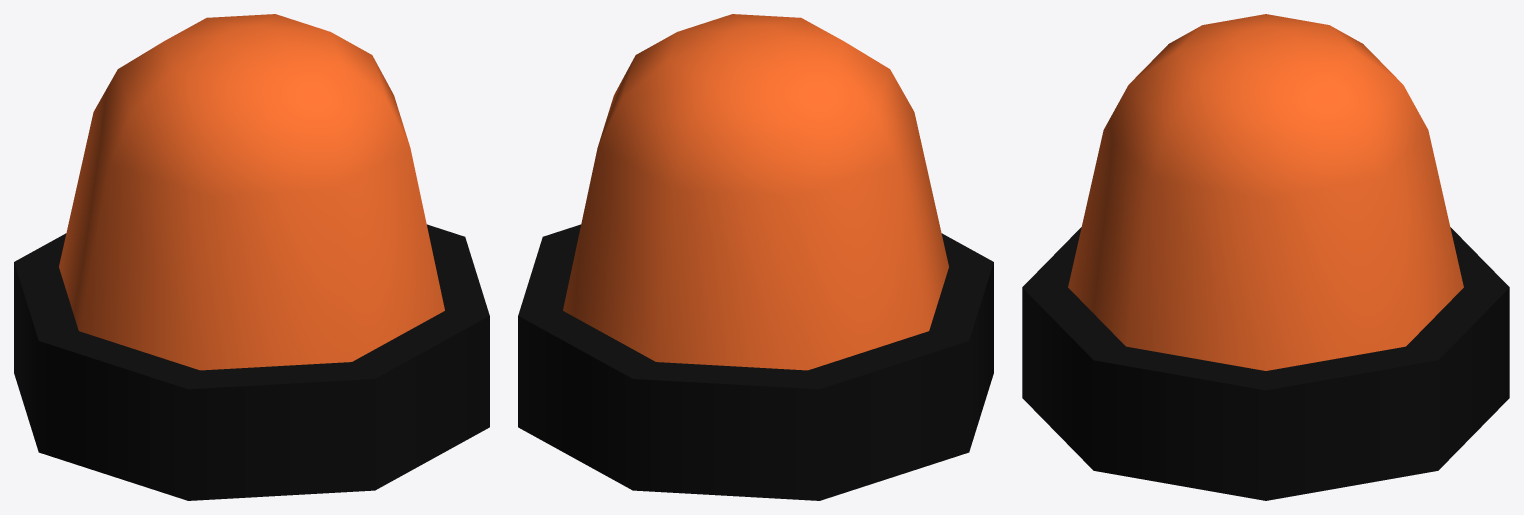
Rendered from warning_light.glb.
The picture shows the model from 3 angles, left to right: view 1: azimuth 30°, elevation 25°; view 2: azimuth 150°, elevation 25°; view 3: azimuth 270°, elevation 25°; orthographic projection.
Visible parts, largest first — view 1: warning_light; view 2: warning_light; view 3: warning_light.
Part boxes in pixels (<box>): warning_light: <box>14,14,489,500</box>; warning_light: <box>518,14,993,500</box>; warning_light: <box>1022,14,1509,500</box>.
Size of the model in its own units: 0.2459 by 0.1992 by 0.2459.
